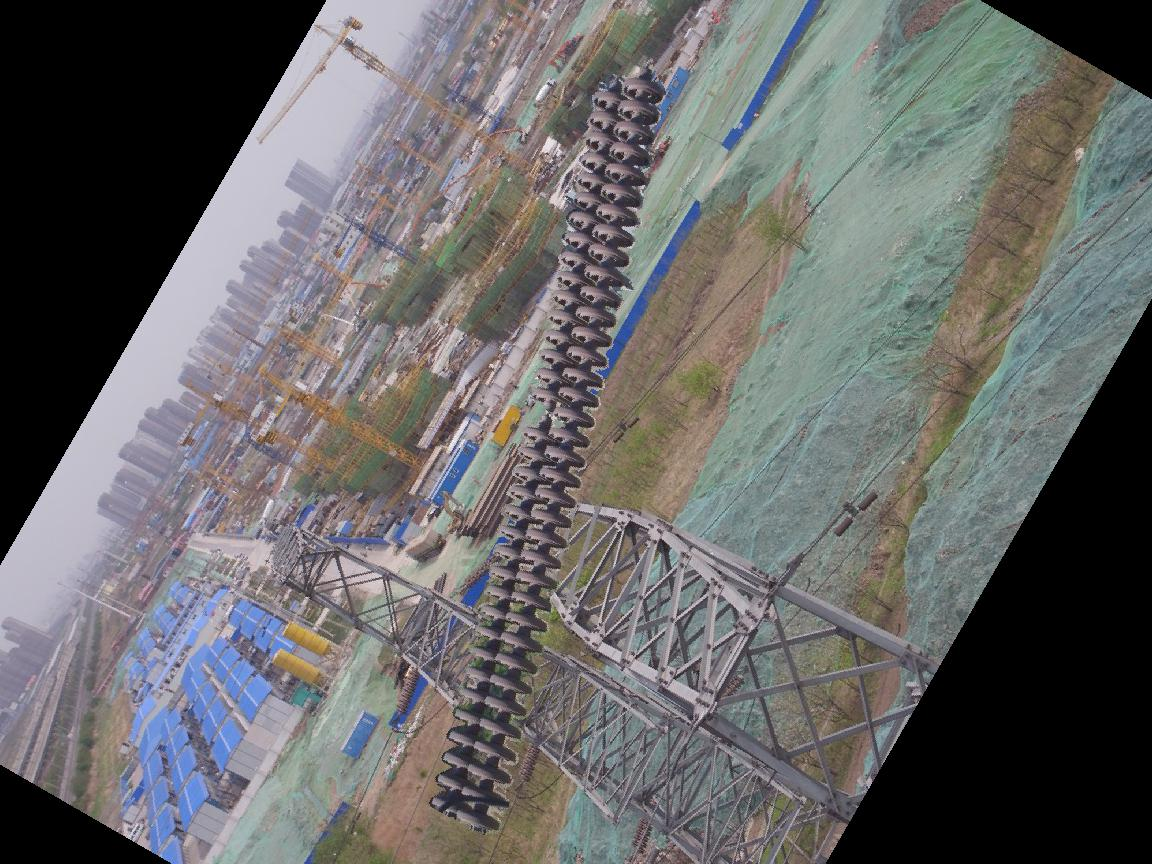insulator: (422, 69, 673, 836), (391, 662, 426, 720), (511, 741, 545, 788), (620, 815, 655, 856)
insulator_stringdrop: (517, 384, 561, 446)
